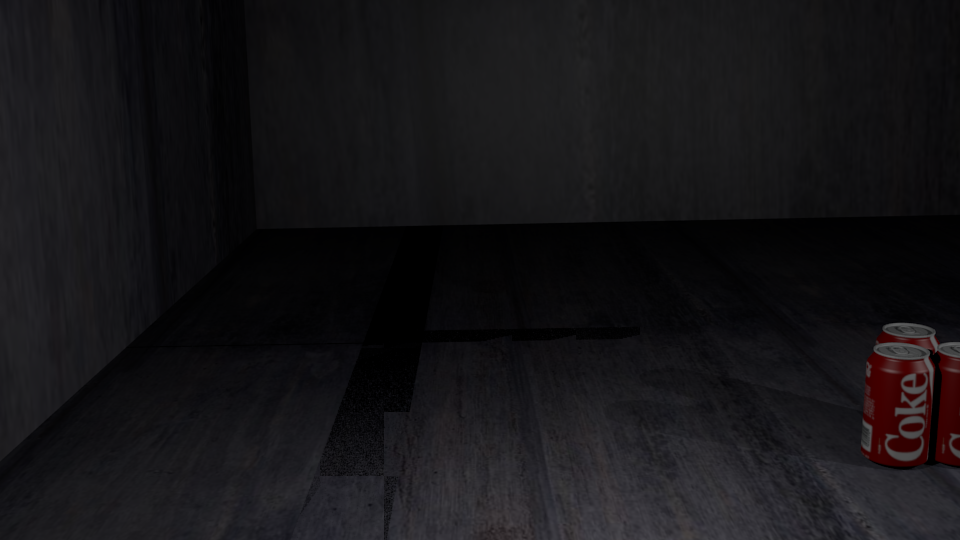cola_can: (865, 343, 934, 463), (879, 323, 939, 437), (929, 342, 959, 461)
